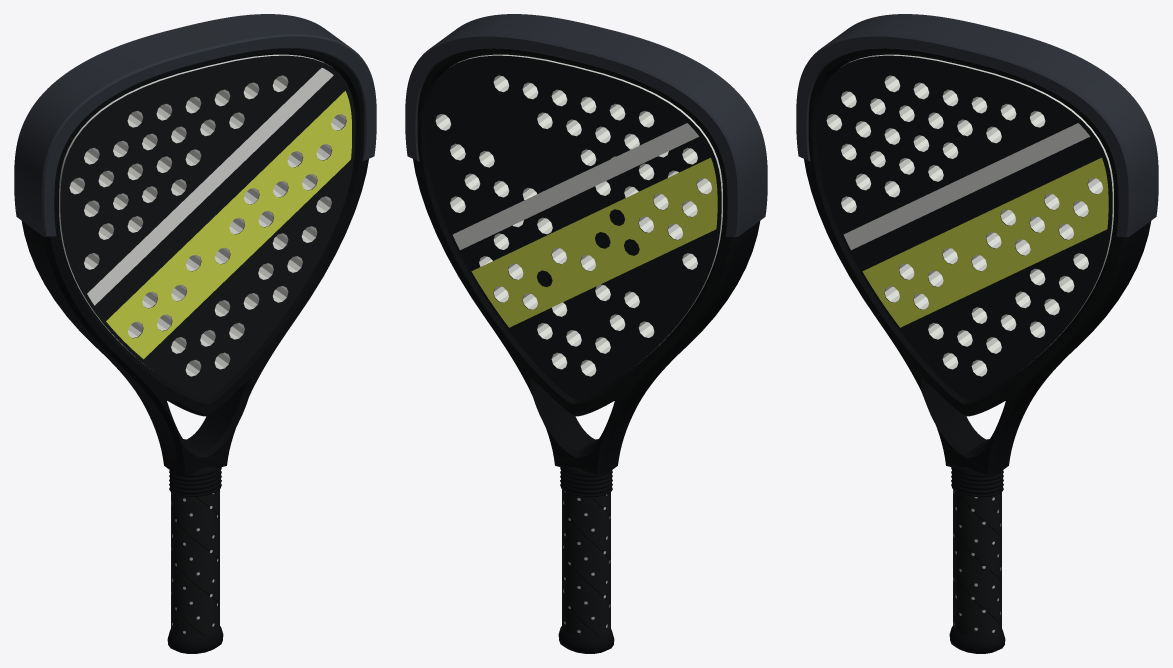
The model's file is bullpadel-vertex-05.preview.glb.
3 renders of one model, left to right at view 1: azimuth 30°, elevation 25°; view 2: azimuth 150°, elevation 25°; view 3: azimuth 330°, elevation 25°, orthographic.
Parts seen in each view (by area): view 1: part_face, part_print, part_bumper, part_frame, part_grip, part_collar, part_cap; view 2: part_face, part_print, part_bumper, part_frame, part_grip, part_collar, part_cap; view 3: part_face, part_print, part_bumper, part_frame, part_grip, part_collar, part_cap.
Boxes of the visible parts, bbox=[...] form: part_face: bbox=[59, 54, 355, 398]; part_print: bbox=[87, 68, 351, 359]; part_bumper: bbox=[14, 14, 376, 236]; part_frame: bbox=[21, 48, 368, 477]; part_grip: bbox=[171, 489, 219, 637]; part_collar: bbox=[169, 467, 221, 496]; part_cap: bbox=[167, 626, 223, 653]; part_face: bbox=[426, 54, 722, 398]; part_print: bbox=[452, 123, 717, 327]; part_bumper: bbox=[405, 14, 767, 236]; part_frame: bbox=[413, 48, 760, 477]; part_grip: bbox=[562, 489, 610, 637]; part_collar: bbox=[560, 467, 612, 496]; part_cap: bbox=[558, 626, 614, 653]; part_face: bbox=[817, 54, 1113, 398]; part_print: bbox=[843, 123, 1108, 327]; part_bumper: bbox=[796, 14, 1158, 236]; part_frame: bbox=[804, 48, 1151, 477]; part_grip: bbox=[953, 489, 1001, 637]; part_collar: bbox=[951, 467, 1003, 496]; part_cap: bbox=[949, 626, 1005, 653].
Bounding box in the file's own units: 0.2632 × 0.4566 × 0.0404.
10 materials, 1 textured.
